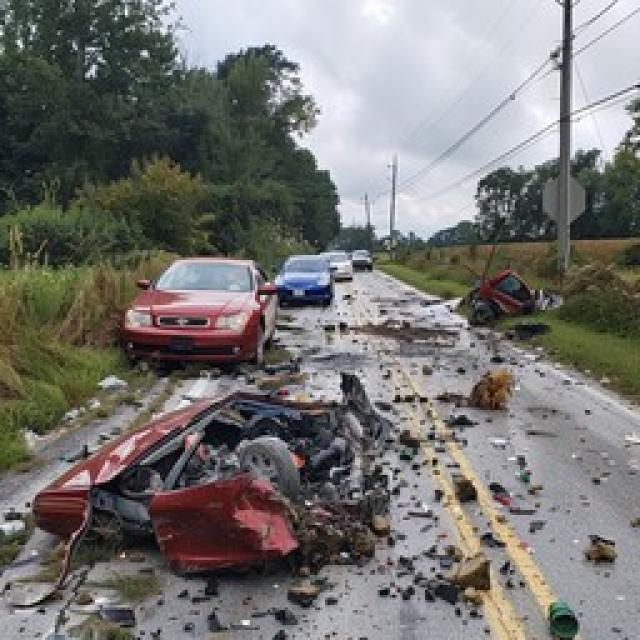Accident: (31, 365, 415, 581), (446, 256, 548, 336)
